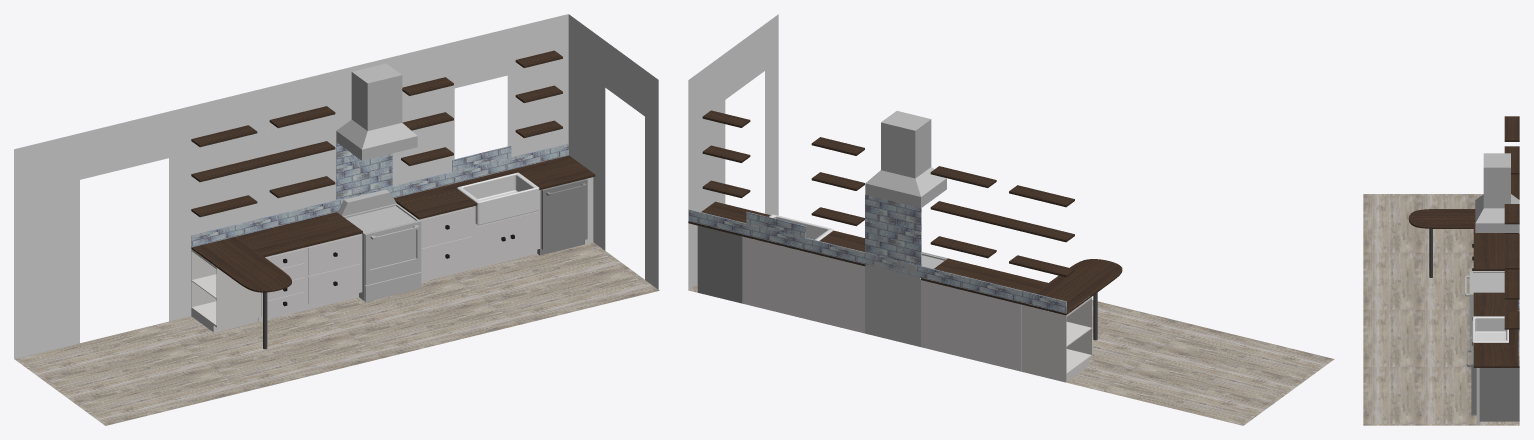
The model's file is overhead.glb.
The picture shows the model from 3 angles, left to right: view 1: azimuth 30°, elevation 25°; view 2: azimuth 150°, elevation 25°; view 3: azimuth 270°, elevation 25°; orthographic projection. The views are drawn at different scales.
Visible parts, largest first — view 1: Wall-material; view 2: Wall-material; view 3: Wall-material.
Part boxes in pixels (<box>): Wall-material: <box>14,14,659,425</box>; Wall-material: <box>688,14,1334,425</box>; Wall-material: <box>1363,116,1519,425</box>.
Size of the model in its own units: 2.46 by 0.8925 by 0.7.
13 materials, 3 textured.
